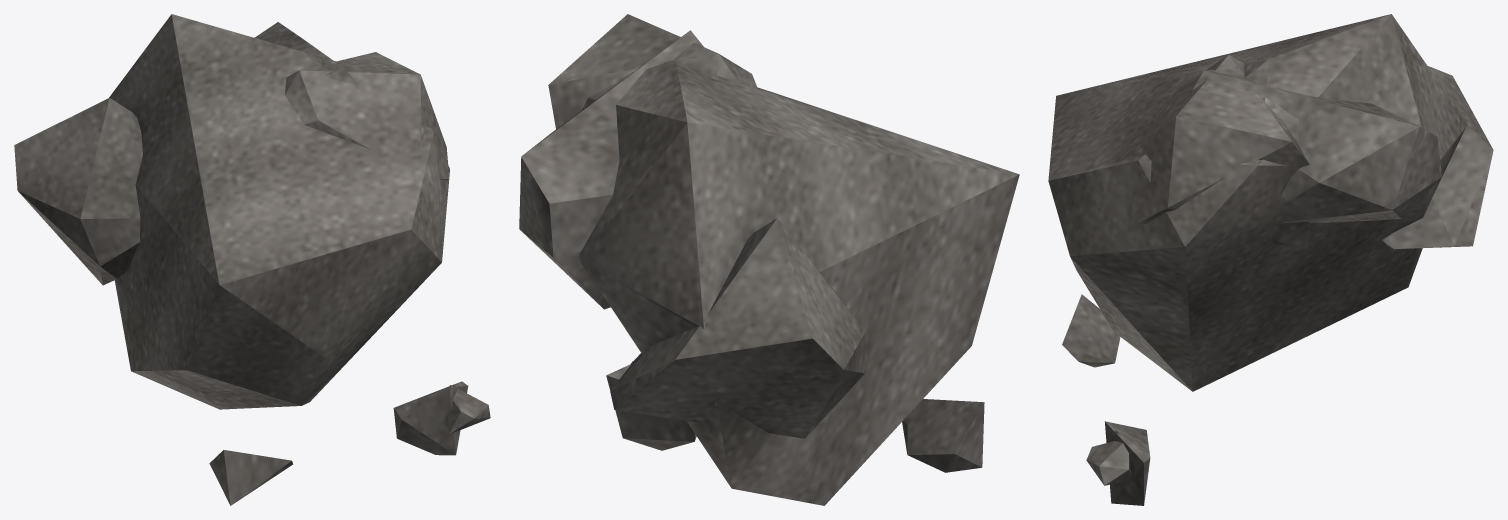
Rendered from boulder_11.glb.
3 renders of one model, left to right at view 1: azimuth 30°, elevation 25°; view 2: azimuth 150°, elevation 25°; view 3: azimuth 270°, elevation 25°, orthographic. The views are drawn at different scales.
Parts seen in each view (by area): view 1: boulder_11_c0; view 2: boulder_11_c0; view 3: boulder_11_c0.
Part boxes in pixels (x1,y1,x2,y2): boulder_11_c0: (14, 14, 490, 505); boulder_11_c0: (519, 14, 1019, 505); boulder_11_c0: (1048, 14, 1493, 505).
Size of the model in its own units: 1.47 by 1.68 by 1.64.
Materials: 1 (1 with a texture image).
